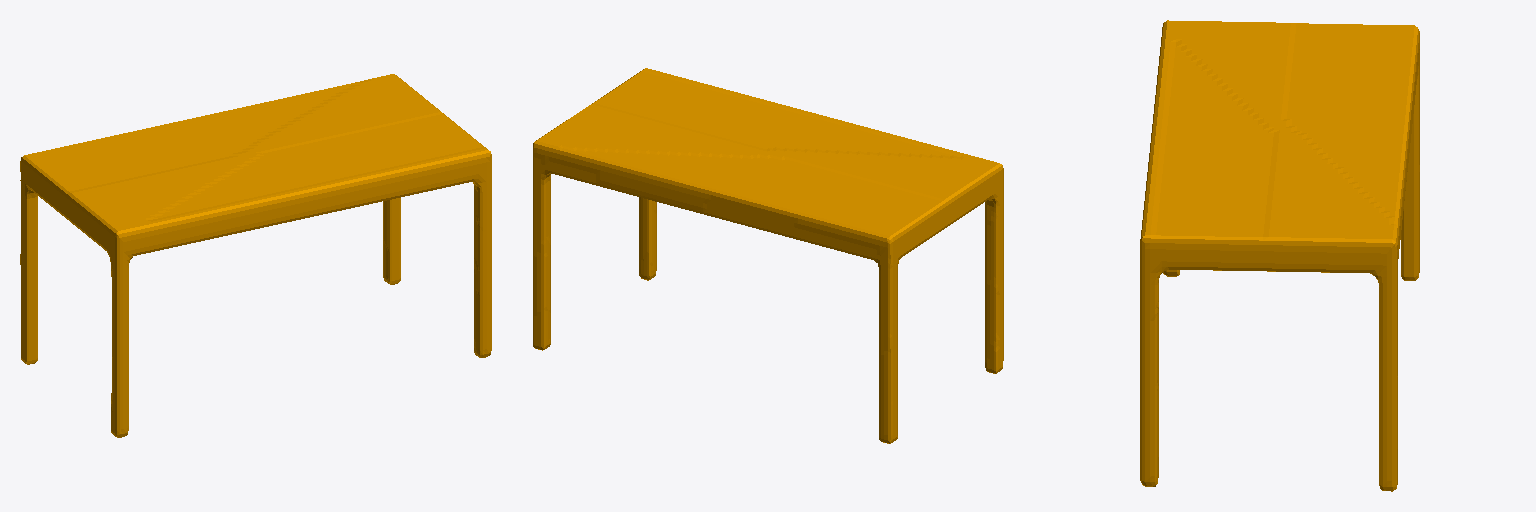
URDF robot description (04379243_cf24f0128755080569080f7eaa8f3e1d_object):
<robot name="04379243_cf24f0128755080569080f7eaa8f3e1d_object">
	<link name="_name">
		<visual>
			<origin xyz="1.8818855003264199 -1.0129561373138152 0.5789124488625776" rpy="0.0 0.0 0.0" />
			<geometry>
				<mesh filename="04379243_cf24f0128755080569080f7eaa8f3e1d_object.obj" />
			</geometry>
		</visual>
		<collision>
			<origin rpy="0.0 0.0 0.0" xyz="1.8818855003264199 -1.0129561373138152 0.5789124488625776" />
			<geometry>
				<mesh filename="04379243_cf24f0128755080569080f7eaa8f3e1d_object_vhacd.obj" />
			</geometry>
		</collision>
		<inertial>
			<origin rpy="0 0 0" xyz="0 0 0" />
			<mass value="1.0" />
			<inertia ixx="0.001" ixy="0.0" ixz="0.0" iyy="0.001" iyz="0.0" izz="0.001" />
		</inertial>
	</link>
</robot>

--- What the picture shows (computed from the rendered views, not written in the file) ---
The picture shows the robot from 3 angles, left to right: view 1: azimuth 30°, elevation 25°; view 2: azimuth 150°, elevation 25°; view 3: azimuth 270°, elevation 25°; orthographic projection.
Model 04379243_cf24f0128755080569080f7eaa8f3e1d_object with 1 links and 0 joints (none), rooted at _name, posed all joints at 0.
Links seen in each view (by area): view 1: _name; view 2: _name; view 3: _name.
Boxes of the visible links, x1,y1,x2,y2 form: _name: (20, 74, 491, 437); _name: (533, 68, 1003, 443); _name: (1140, 20, 1419, 491).
Size in the robot's own frame: 1.56 by 0.8306 by 0.8261 metres.
Meshes: 1 distinct files referenced, 1 mesh visuals loaded (1 OBJ).
